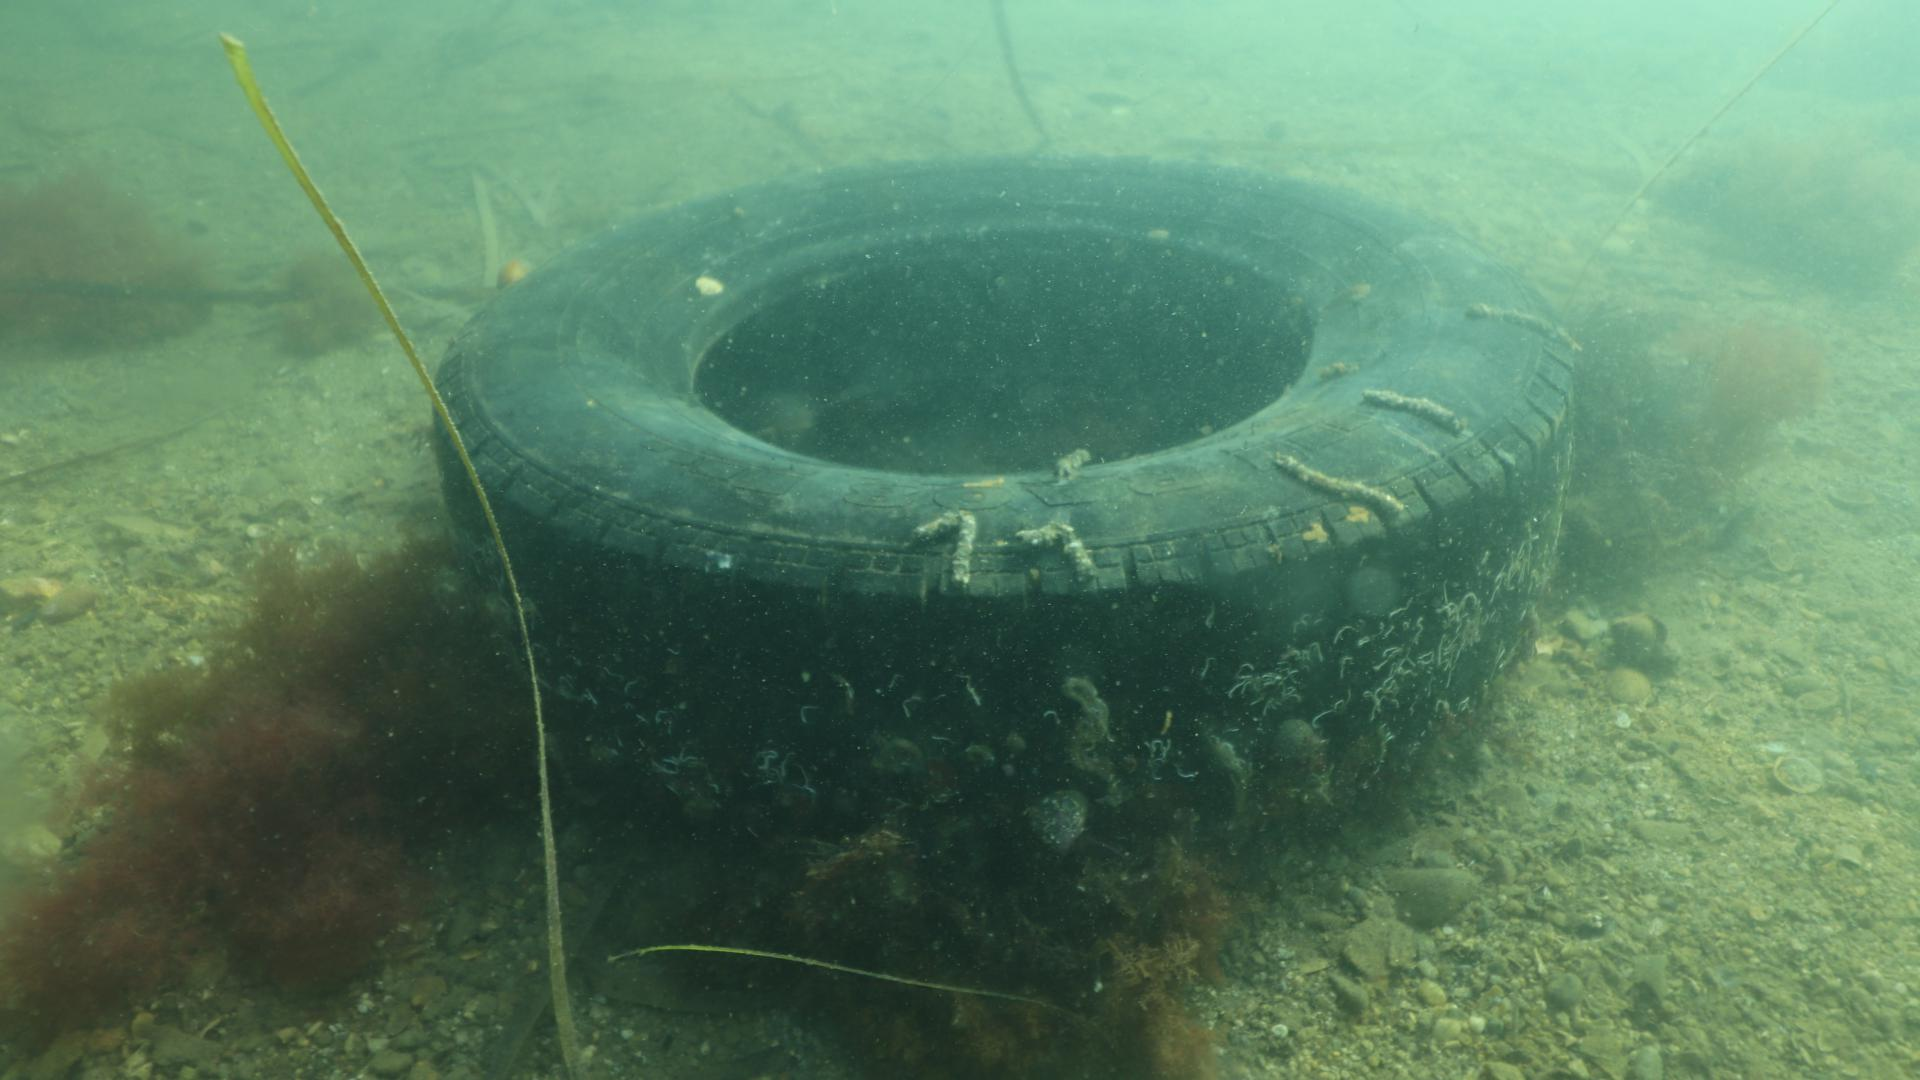tire: (429, 145, 1575, 905)
